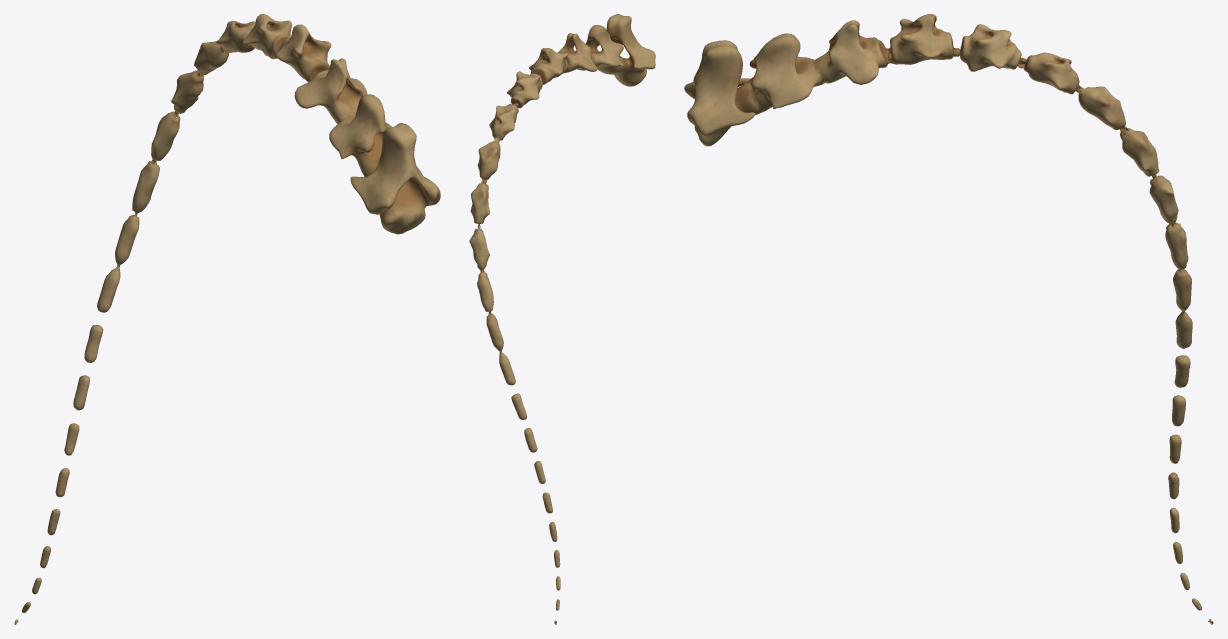
Rendered from Caudal Vertebrae.glb.
The picture shows the model from 3 angles, left to right: view 1: azimuth 30°, elevation 25°; view 2: azimuth 150°, elevation 25°; view 3: azimuth 270°, elevation 25°; orthographic projection. The views are drawn at different scales.
Parts seen in each view (by area): view 1: Group28197.001; view 2: Group28197.001; view 3: Group28197.001.
Part boxes in pixels (bbox=[...]): Group28197.001: bbox=[14, 14, 440, 624]; Group28197.001: bbox=[469, 14, 655, 624]; Group28197.001: bbox=[684, 14, 1213, 624].
Size of the model in its own units: 96.31 by 332 by 233.
Materials: 1 (1 with a texture image).
